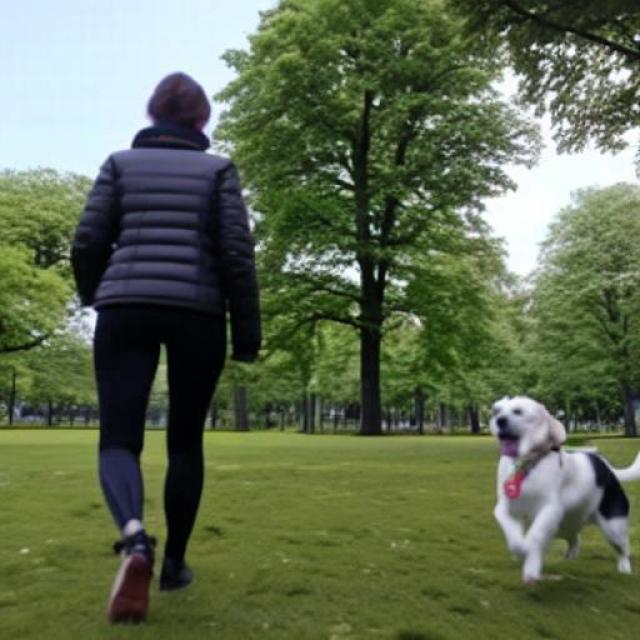Unleashed_Dog: (125, 288, 640, 586)
